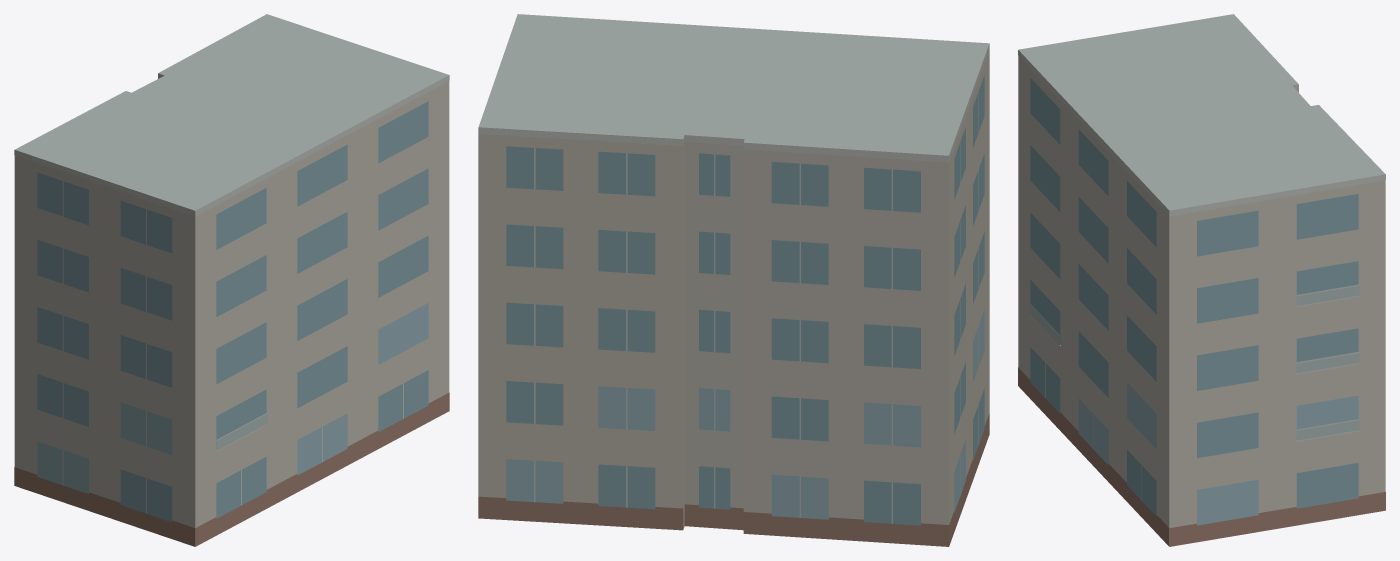
File: survey-upis-32882447.glb
3 views of the same model, side by side, from view 1: azimuth 30°, elevation 25°; view 2: azimuth 150°, elevation 25°; view 3: azimuth 270°, elevation 25° (orthographic). The views are drawn at different scales.
Visible parts, largest first — view 1: survey-upis-32882447.tmp; view 2: survey-upis-32882447.tmp; view 3: survey-upis-32882447.tmp.
Boxes of the visible parts, x1=… form: survey-upis-32882447.tmp: x1=14, y1=14, x2=449, y2=546; survey-upis-32882447.tmp: x1=478, y1=14, x2=989, y2=546; survey-upis-32882447.tmp: x1=1018, y1=14, x2=1385, y2=546.
Bounding box in the file's own units: 17.95 × 14.3 × 14.18.
